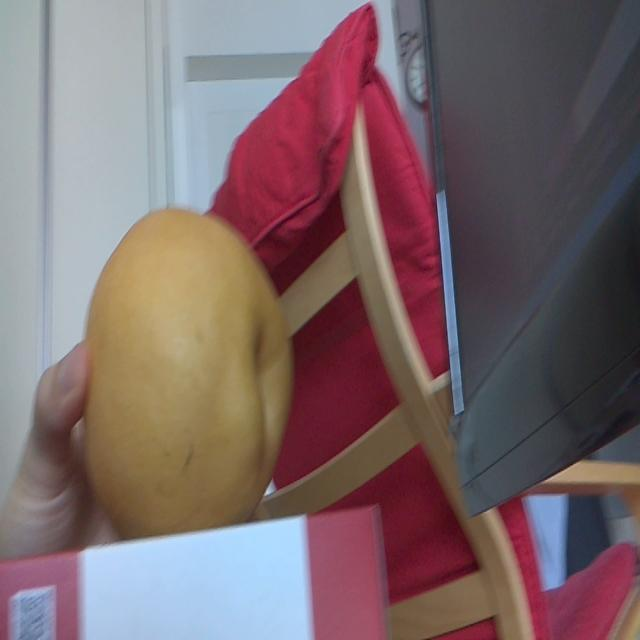pear: (87, 208, 292, 532)
